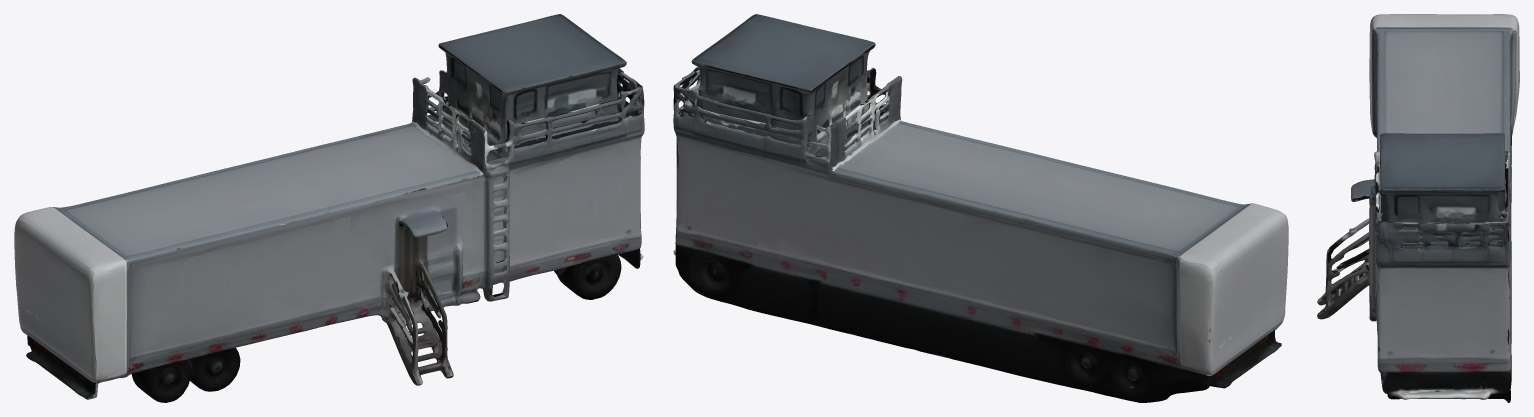
The model's file is compressed_controlvan3d.glb.
The picture shows the model from 3 angles, left to right: view 1: azimuth 30°, elevation 25°; view 2: azimuth 150°, elevation 25°; view 3: azimuth 270°, elevation 25°; orthographic projection. The views are drawn at different scales.
Visible parts, largest first — view 1: tmplpywmp0p.ply; view 2: tmplpywmp0p.ply; view 3: tmplpywmp0p.ply.
Part boxes in pixels (x1,y1,x2,y2): tmplpywmp0p.ply: [14, 14, 644, 402]; tmplpywmp0p.ply: [673, 14, 1288, 402]; tmplpywmp0p.ply: [1317, 14, 1519, 402].
Bounding box in the file's own units: 1.96 × 0.7949 × 0.6467.
1 material, 1 textured.
